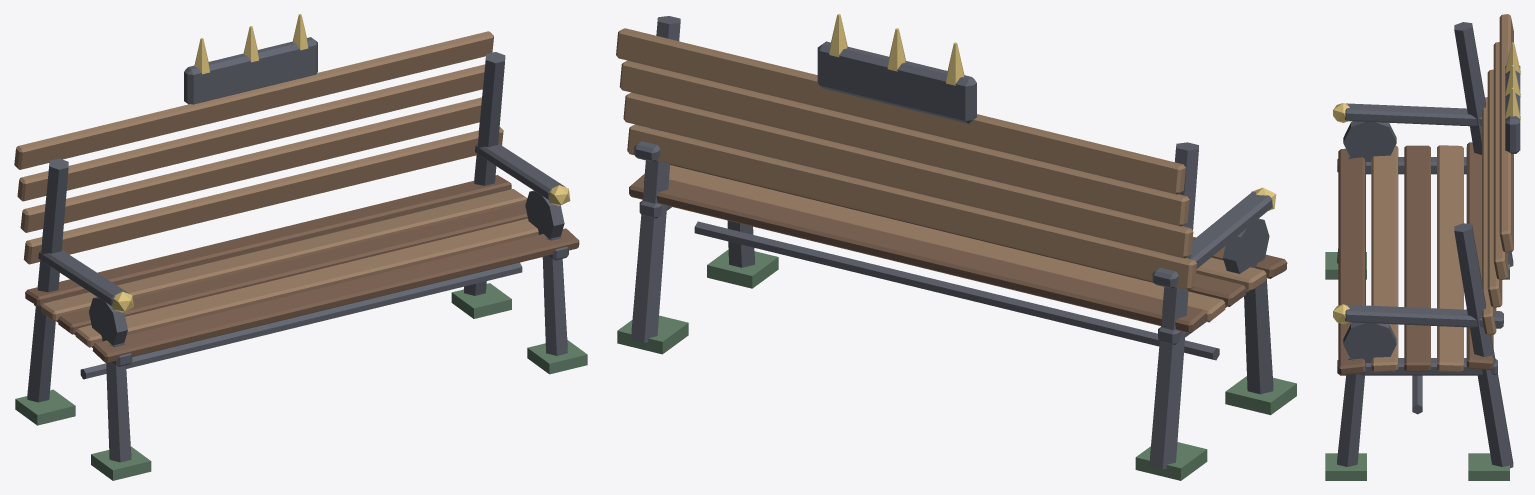
Rendered from outdoor_bench.glb.
The picture shows the model from 3 angles, left to right: view 1: azimuth 30°, elevation 25°; view 2: azimuth 150°, elevation 25°; view 3: azimuth 270°, elevation 25°; orthographic projection. The views are drawn at different scales.
Parts seen in each view (by area): view 1: Outdoor_Bench; view 2: Outdoor_Bench; view 3: Outdoor_Bench.
Boxes of the visible parts, x1,y1,x2,y2 form: Outdoor_Bench: (14, 14, 587, 480); Outdoor_Bench: (616, 14, 1296, 480); Outdoor_Bench: (1325, 14, 1520, 480).
Size of the model in its own units: 2.47 by 1.61 by 0.9315.
